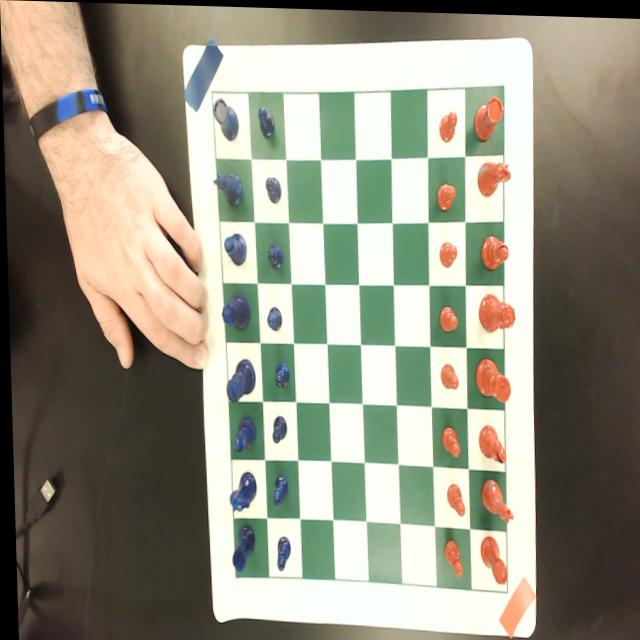B: (231, 414, 254, 452), (221, 232, 246, 266)
K: (224, 357, 254, 402)
N: (226, 470, 254, 512), (212, 169, 242, 208)
P: (257, 101, 276, 140), (272, 534, 288, 572), (270, 472, 287, 507), (263, 174, 282, 204), (268, 414, 286, 444), (265, 242, 283, 270), (265, 303, 282, 331), (272, 360, 288, 389)
Q: (220, 291, 249, 330)
R: (228, 523, 253, 571), (213, 97, 239, 142)
b: (479, 228, 508, 269), (477, 421, 503, 461)
k: (473, 354, 509, 400)
n: (477, 475, 512, 524), (475, 154, 510, 196)
p: (440, 536, 460, 576), (443, 481, 462, 516), (438, 107, 457, 141), (436, 180, 456, 210), (440, 424, 458, 456), (437, 361, 457, 387), (438, 238, 456, 266), (438, 303, 456, 330)
q: (477, 290, 514, 331)
r: (473, 91, 504, 140), (476, 533, 505, 583)
